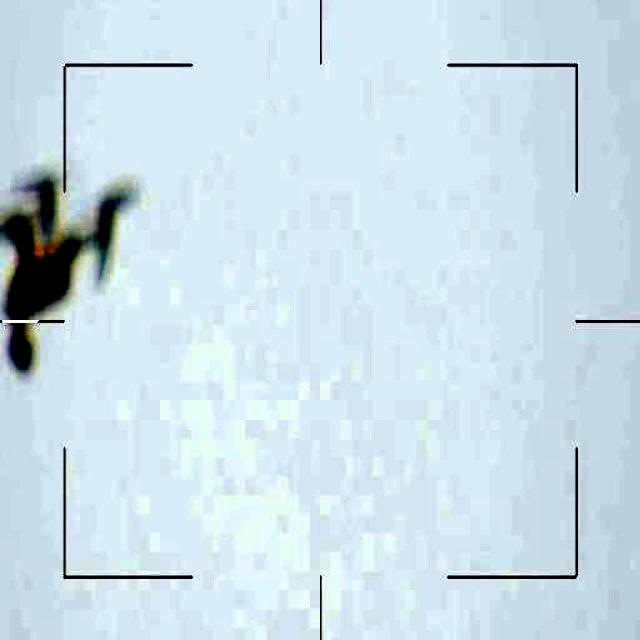bird: (0, 198, 125, 408)
